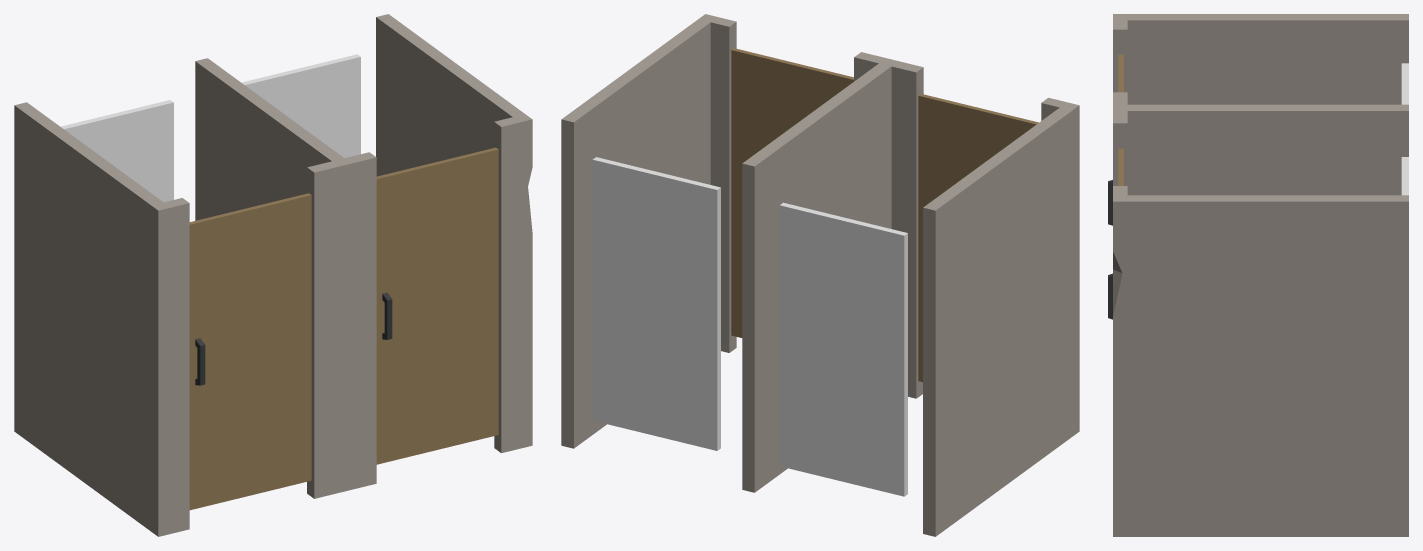
Rendered from SM_Props_Interior_Shop_Clothes_FittingRoom.fbx.
3 renders of one model, left to right at view 1: azimuth 30°, elevation 25°; view 2: azimuth 150°, elevation 25°; view 3: azimuth 270°, elevation 25°, orthographic. The views are drawn at different scales.
Parts seen in each view (by area): view 1: SM_Props_Interior_Shop_Clothes_FittingRoom; view 2: SM_Props_Interior_Shop_Clothes_FittingRoom; view 3: SM_Props_Interior_Shop_Clothes_FittingRoom.
Part boxes in pixels (box(x1,y1,x2,y2)): SM_Props_Interior_Shop_Clothes_FittingRoom: box(14, 14, 532, 536); SM_Props_Interior_Shop_Clothes_FittingRoom: box(561, 14, 1079, 536); SM_Props_Interior_Shop_Clothes_FittingRoom: box(1108, 14, 1408, 536).
Bounding box in the file's own units: 240 × 200 × 163.
